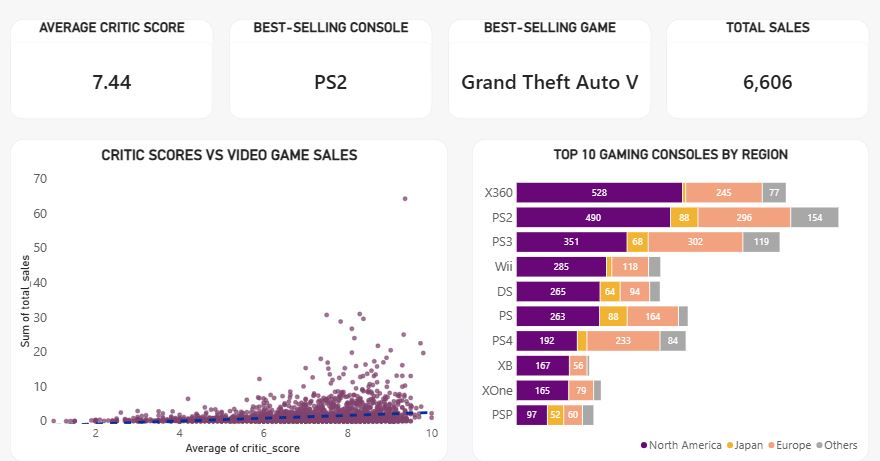

Layout of this report page (visuals, bound fields, positions):
{"tool":"powerbi","page":{"name":"Page 5","canvas":[1920,1080],"ordinal":4},"visuals":[{"type":"scatterChart","title":"CRITIC SCORES VS VIDEO GAME SALES","fields":{"Category":["vgchartz-2024.title"],"X":["Avg(vgchartz-2024.critic_score)"],"Y":["Sum(vgchartz-2024.total_sales)"]},"box":[44.6,346.5,931.2,686.7],"z":0},{"type":"barChart","title":"TOP 10 GAMING CONSOLES BY REGION","fields":{"Category":["vgchartz-2024.console"],"Y":["vgchartz-2024.North America","vgchartz-2024.Japan","vgchartz-2024.Europe","vgchartz-2024.Others"]},"box":[1026.9,346.5,844,686.7],"z":1},{"type":"cardVisual","title":"AVERAGE CRITIC SCORE","fields":{"Data":["Avg(vgchartz-2024.critic_score)"]},"box":[44.6,91.4,431.9,212.8],"z":2},{"type":"cardVisual","title":"BEST-SELLING CONSOLE","fields":{"Data":["Min(vgchartz-2024.console)"]},"box":[510.2,91.4,431.9,212.8],"z":3},{"type":"cardVisual","title":"TOTAL SALES","fields":{"Data":["vgchartz-2024.Total Copies Sold"]},"box":[1439.3,91.4,431.9,212.8],"z":4},{"type":"cardVisual","title":"BEST-SELLING GAME","fields":{"Data":["Min(vgchartz-2024.title)"]},"box":[975.8,91.4,431.9,212.8],"z":5}]}

Visuals, with their boxes on the page's 1920x1080 design canvas (x1, y1, x2, y2). These are canvas units, not pixel positions in the 880x461 screenshot, which may show the page scaled, cropped or inside an application window:
"CRITIC SCORES VS VIDEO GAME SALES" scatterChart: l=45, t=346, r=976, b=1033
"TOP 10 GAMING CONSOLES BY REGION" barChart: l=1027, t=346, r=1871, b=1033
"AVERAGE CRITIC SCORE" cardVisual: l=45, t=91, r=476, b=304
"BEST-SELLING CONSOLE" cardVisual: l=510, t=91, r=942, b=304
"TOTAL SALES" cardVisual: l=1439, t=91, r=1871, b=304
"BEST-SELLING GAME" cardVisual: l=976, t=91, r=1408, b=304
